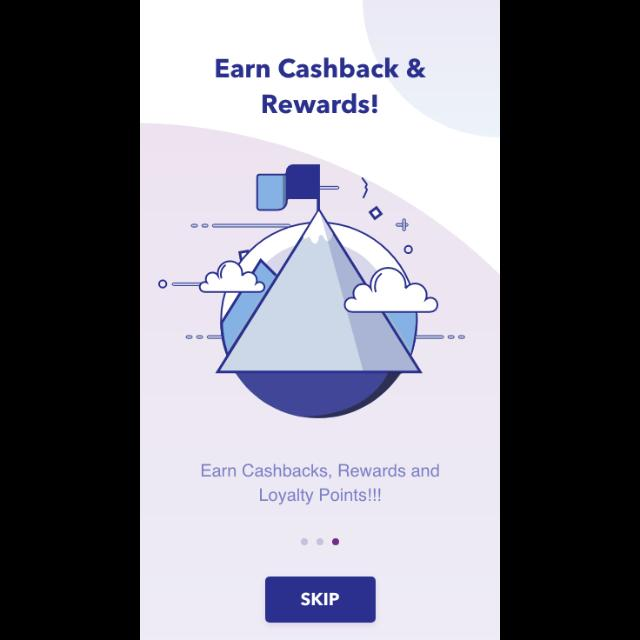image: (158, 164, 466, 420)
pageindicator: (300, 538, 340, 546)
text: (215, 56, 428, 116), (201, 462, 441, 506)
textbutton: (266, 576, 376, 622)
